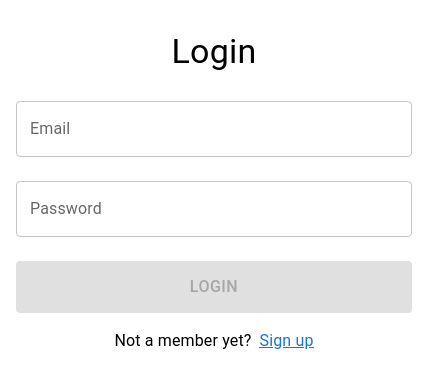
Test case: Login Form Tests › throw errors while fields have invalid Email address and password length
Step 1. Type "aamish.latif9798@gmail" into the field labelled "Email" → (214, 129), box [16,101,412,157]
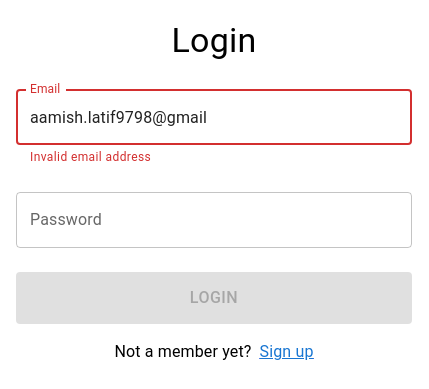
Now the text "Invalid email address" is shown, box [30,150,151,164]
Step 2. Clear the field labelled "Email" → (214, 118), box [16,90,412,146]
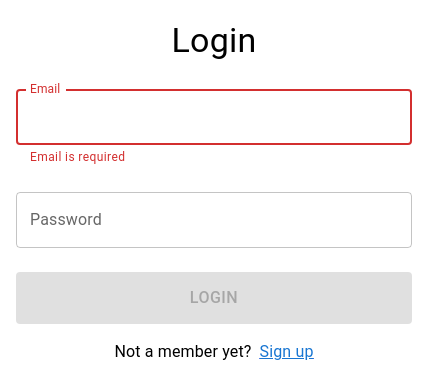
Now the text "Email is required" is shown, box [30,150,125,164]
Step 3. Type "Aami" into the password field labelled "Password" → (214, 220), box [16,192,412,248]
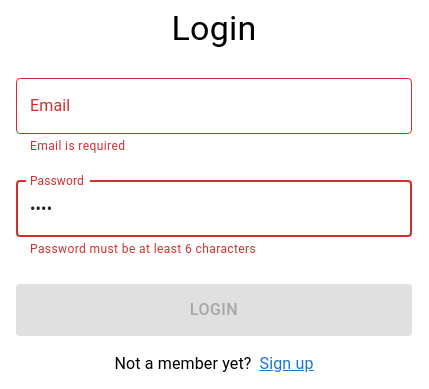
Now the text "Password must be at least 6 characters" is shown, box [30,242,256,256]
Step 4. Clear the password field labelled "Password" → (214, 209), box [16,181,412,237]
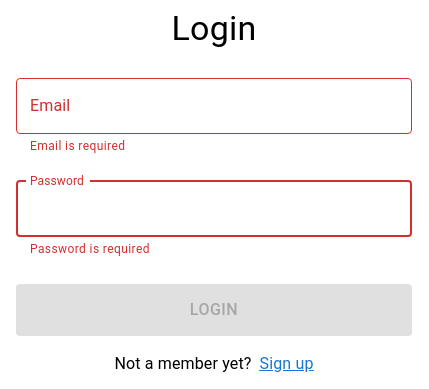
Now the text "Password is required" is shown, box [30,242,150,256]
